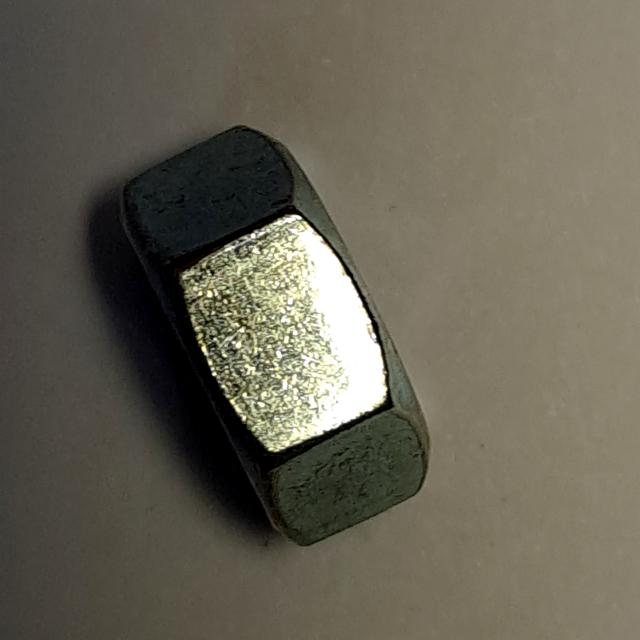Side_Excellent: (104, 105, 449, 562)
